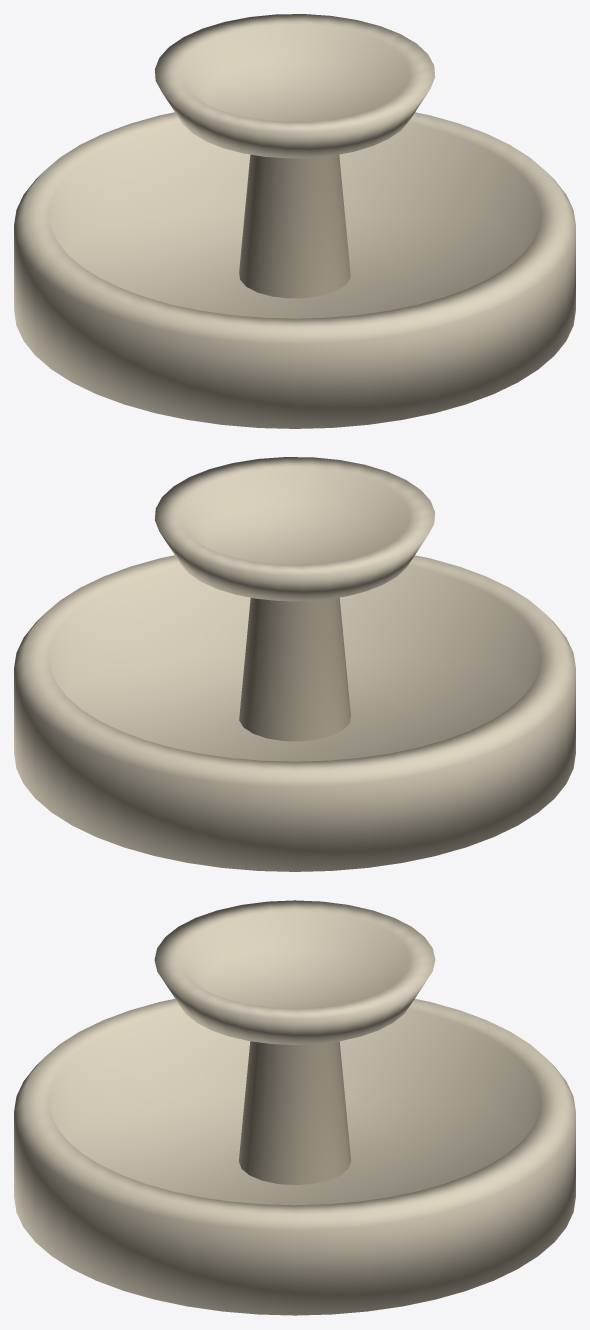
Rendered from fountain_1.glb.
3 views of the same model, one above another, from view 1: azimuth 30°, elevation 25°; view 2: azimuth 150°, elevation 25°; view 3: azimuth 270°, elevation 25° (orthographic).
Visible parts, largest first — view 1: fountain_1; view 2: fountain_1; view 3: fountain_1.
Part boxes in pixels (left/top/right/bottom): fountain_1: left=14, top=14, right=575, bottom=428; fountain_1: left=14, top=457, right=575, bottom=871; fountain_1: left=14, top=900, right=575, bottom=1315.
Size of the model in its own units: 1.44 by 0.67 by 1.44.
